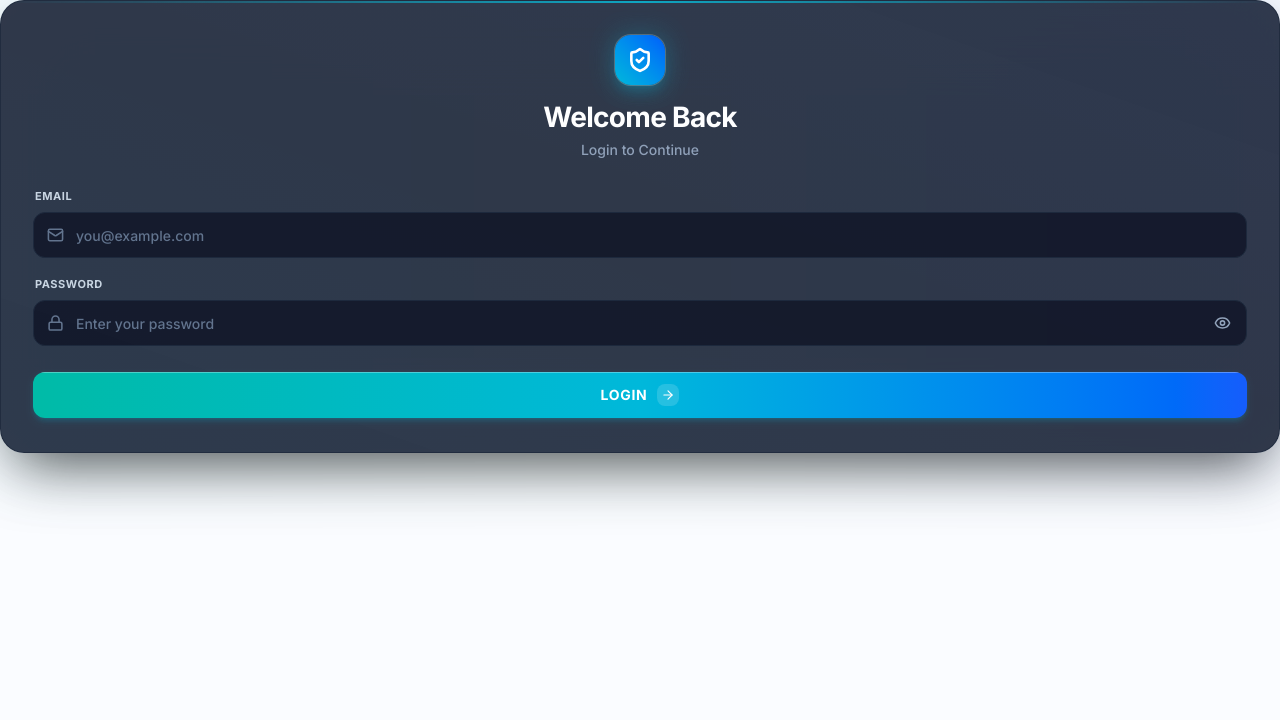
LoginForm Error Handling › handles error containing response data message
Type "test@example.com" into the field with placeholder "you@example.com" at (640, 235), box [33,212,1247,258]
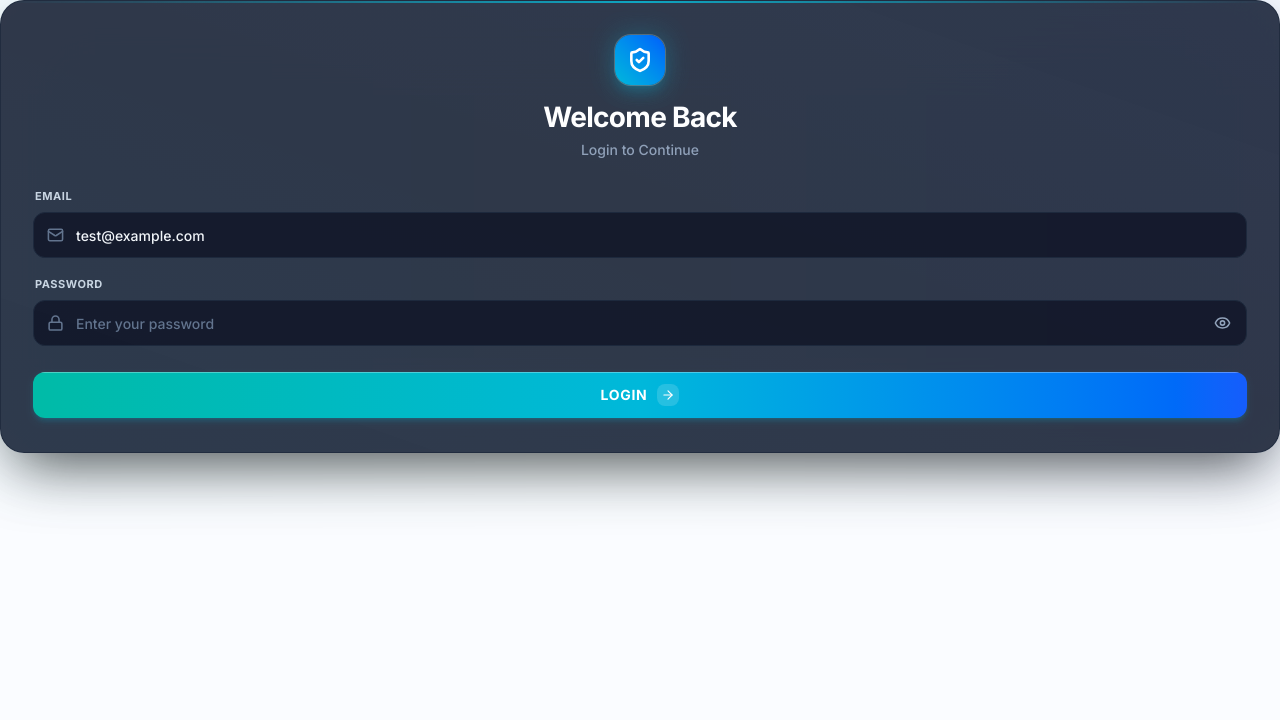
Type "password123" into the password field with placeholder "Enter your password" at (640, 323), box [33,300,1247,346]
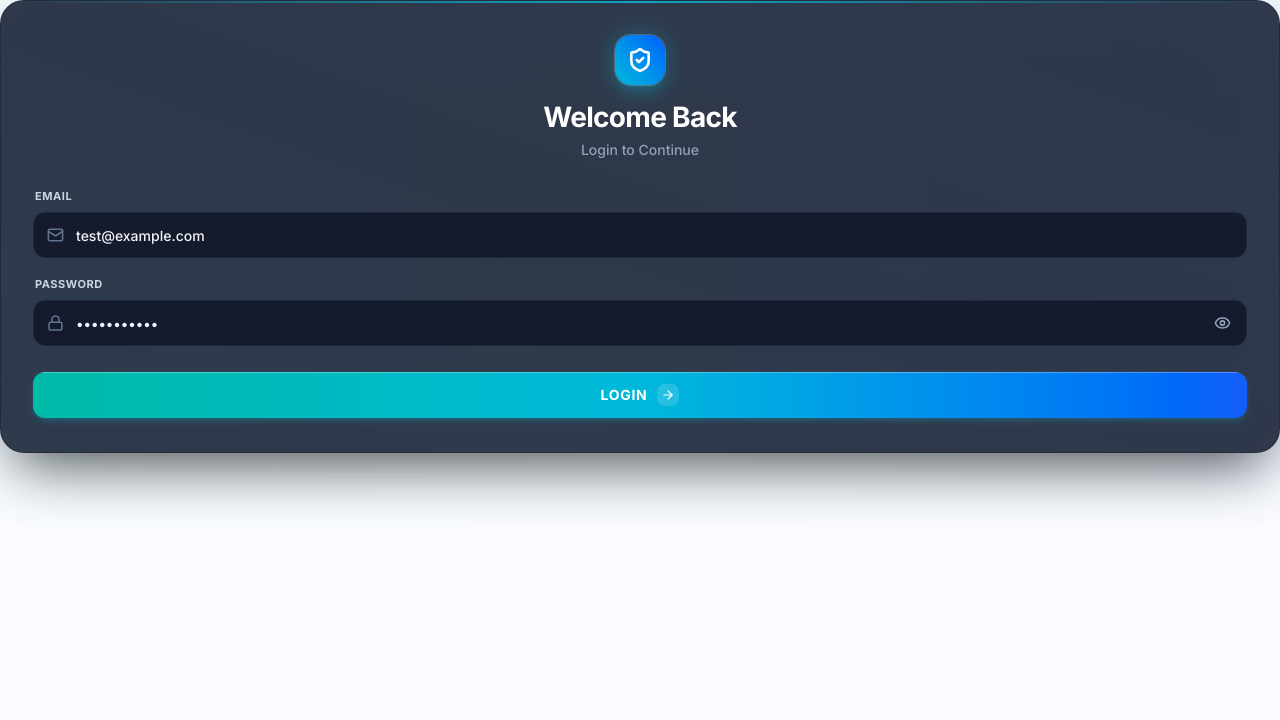
Click the button "Login" at (640, 395), box [33,372,1247,418]
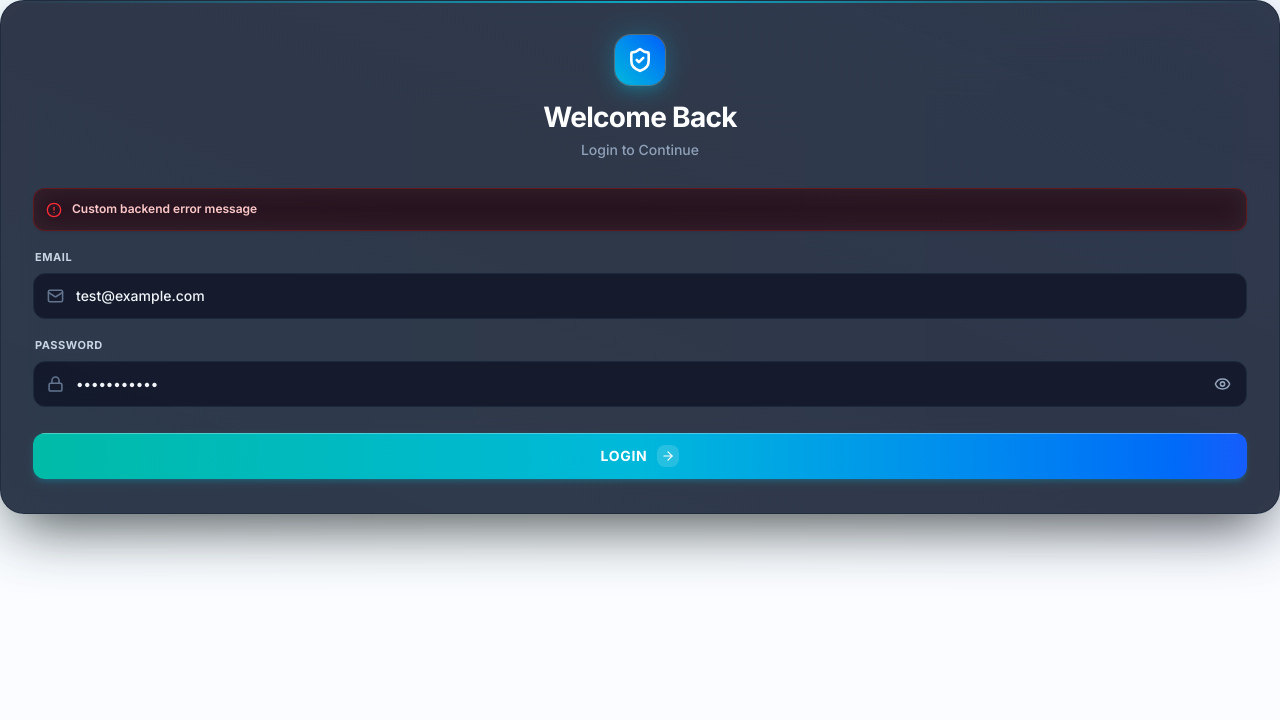
Check: the text "Custom backend error message" is shown, box [72,201,257,218]
